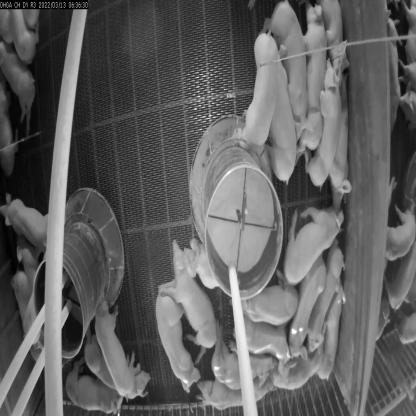Pig: (162, 238, 232, 351), (253, 34, 301, 180), (144, 287, 203, 400), (95, 290, 146, 397), (266, 0, 308, 127), (0, 176, 61, 262), (275, 200, 341, 278), (235, 20, 269, 145), (313, 43, 341, 186), (305, 242, 344, 340), (90, 334, 146, 396), (193, 365, 258, 414), (214, 345, 268, 403), (288, 264, 322, 354), (318, 285, 348, 385), (245, 281, 300, 333), (265, 355, 321, 405), (63, 355, 108, 415), (234, 313, 282, 367), (304, 0, 316, 162), (336, 105, 350, 214)
